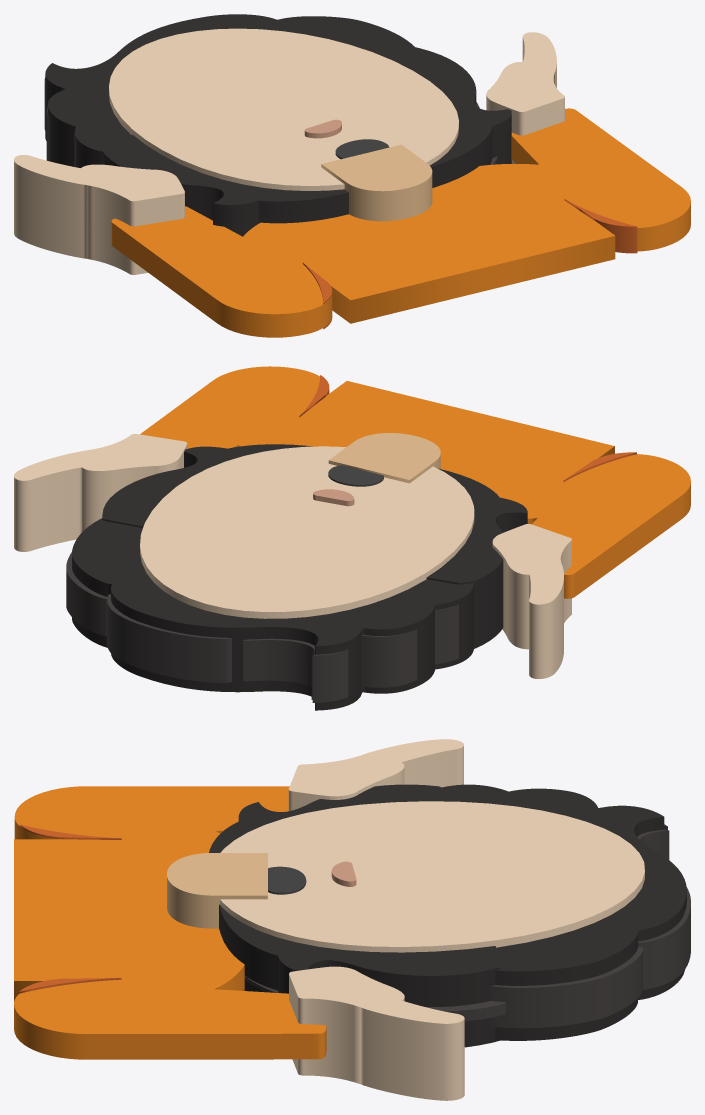
Rendered from emoji_u1f937_1f3fb.glb.
3 renders of one model, top to bottom at view 1: azimuth 30°, elevation 25°; view 2: azimuth 150°, elevation 25°; view 3: azimuth 270°, elevation 25°, orthographic. The views are drawn at different scales.
Visible parts, largest first — view 1: emoji_u1f937_1f3fb; view 2: emoji_u1f937_1f3fb; view 3: emoji_u1f937_1f3fb.
Boxes of the visible parts, bbox=[...] form: emoji_u1f937_1f3fb: bbox=[14, 14, 690, 337]; emoji_u1f937_1f3fb: bbox=[14, 366, 690, 710]; emoji_u1f937_1f3fb: bbox=[14, 739, 690, 1100].
Size of the model in its own units: 0.0331 by 0.0052 by 0.0335.
